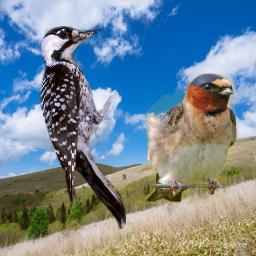Swallow: (144, 73, 240, 204)
Woodpecker: (38, 26, 126, 229)
